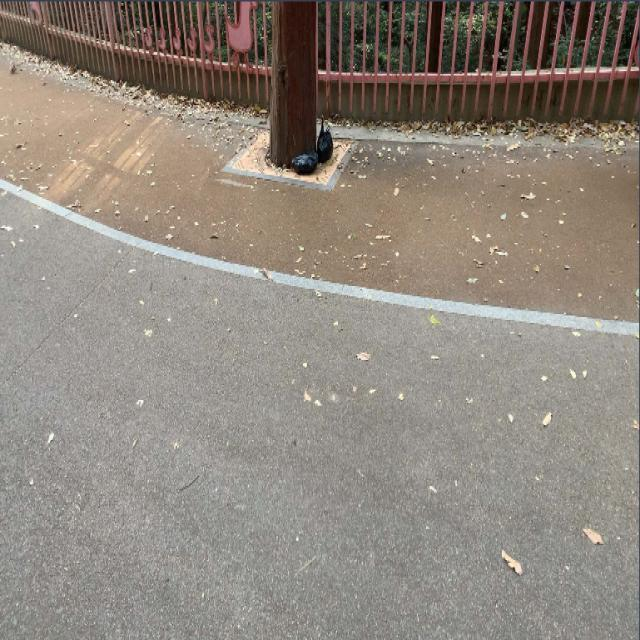Trashbag: (317, 133, 335, 163), (292, 154, 316, 175)
